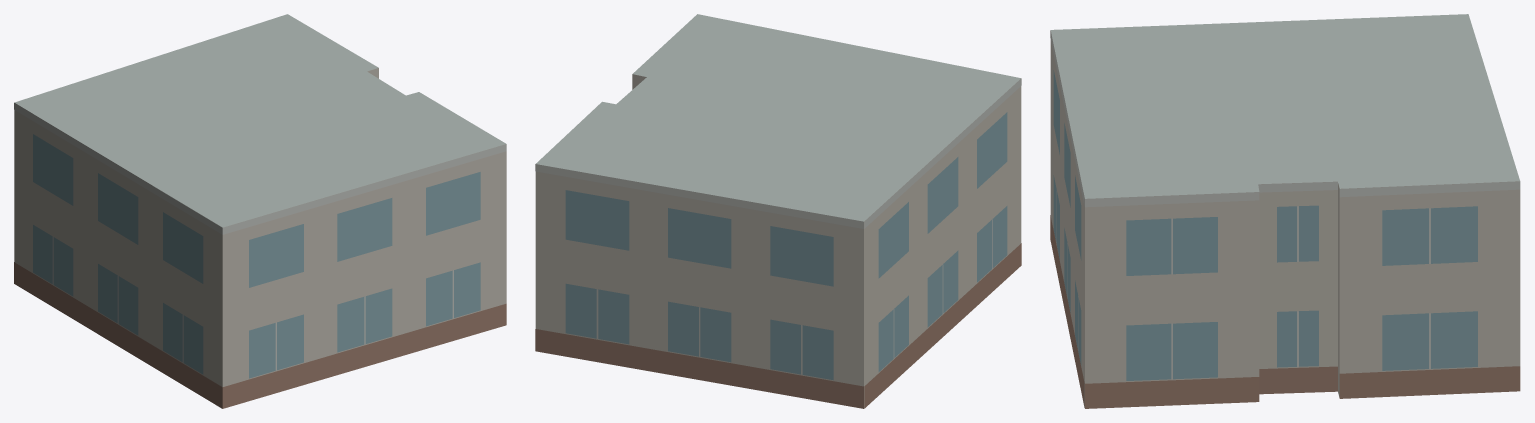
The model's file is survey-upis-32788765.glb.
3 views of the same model, side by side, from view 1: azimuth 30°, elevation 25°; view 2: azimuth 150°, elevation 25°; view 3: azimuth 270°, elevation 25° (orthographic). The views are drawn at different scales.
Visible parts, largest first — view 1: survey-upis-32788765.tmp; view 2: survey-upis-32788765.tmp; view 3: survey-upis-32788765.tmp.
Part boxes in pixels (x1,y1,x2,y2): survey-upis-32788765.tmp: (14, 14, 506, 408); survey-upis-32788765.tmp: (535, 14, 1021, 408); survey-upis-32788765.tmp: (1050, 14, 1520, 408).
Size of the model in its own units: 11.53 by 6.1 by 12.38.
